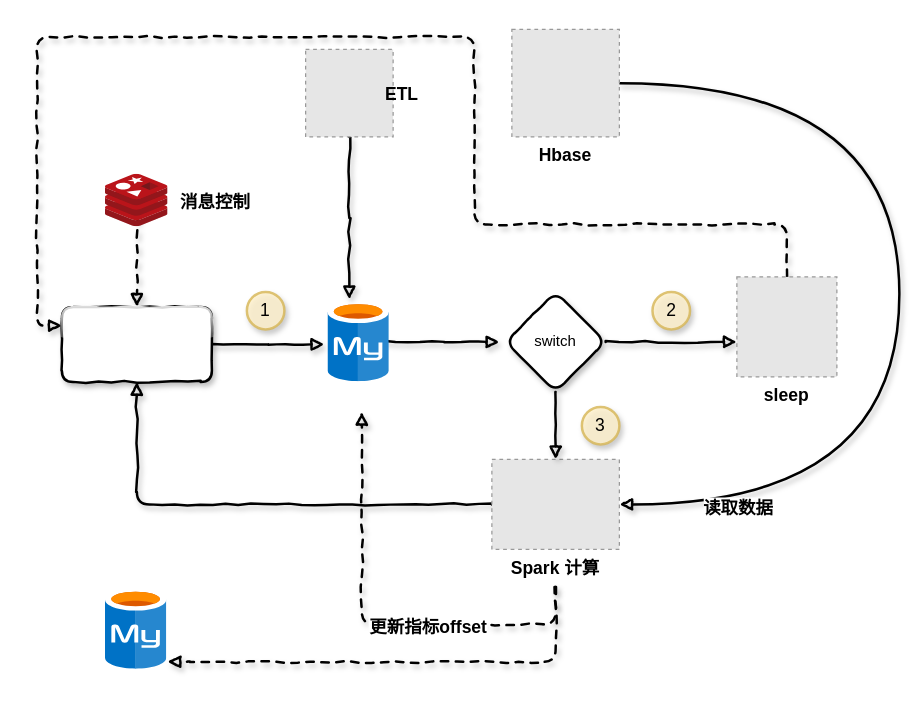
The diagram is 921 pixels wide and 720 high, and some of its shapes have lost their labels. Grey dashed boxes stand in for pictures. The shapes that lost their labels are listed below. From the top down, each one's centre as x and y in pixels, then its label:
pixel 137 345: Driver开始计算
pixel 358 341: offset
pixel 135 629: indicator
